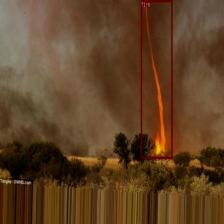fire: (140, 0, 172, 159)
